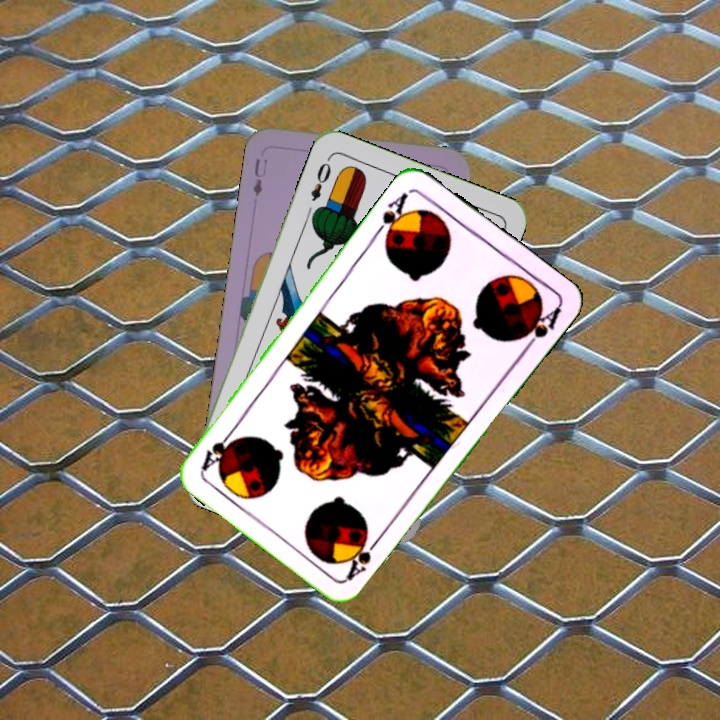EO: (306, 153, 334, 204)
EU: (249, 154, 270, 199)
SA: (371, 188, 412, 244), (342, 532, 384, 583)
